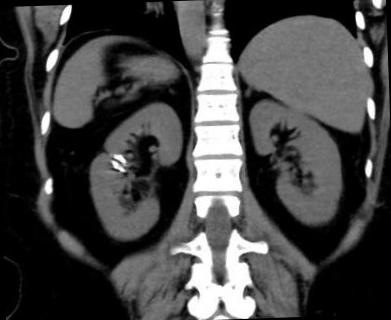Tas_Var: (112, 153, 127, 164), (110, 159, 118, 170), (118, 166, 124, 173)
